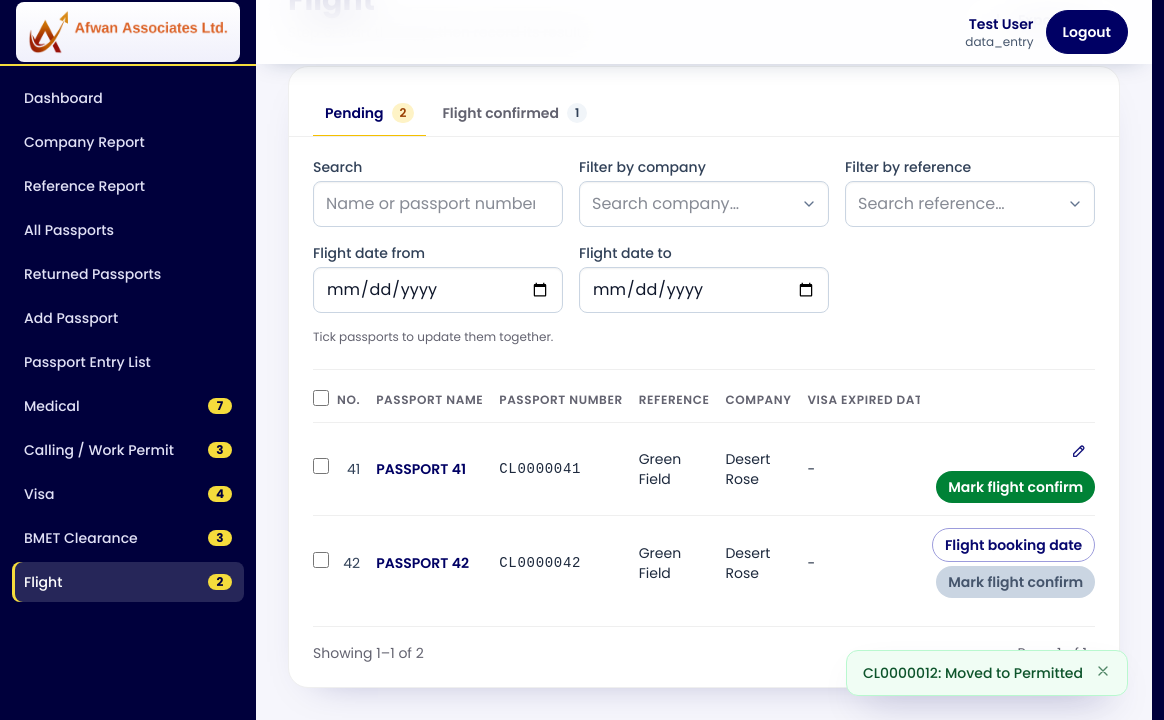
Test case: Flight counts › stay equal after a booking and Mark flight confirm
(page scrolled)
Step 1. Click the button "Flight booking date" → (1013, 545), box x1=932 y1=528 x2=1095 y2=562
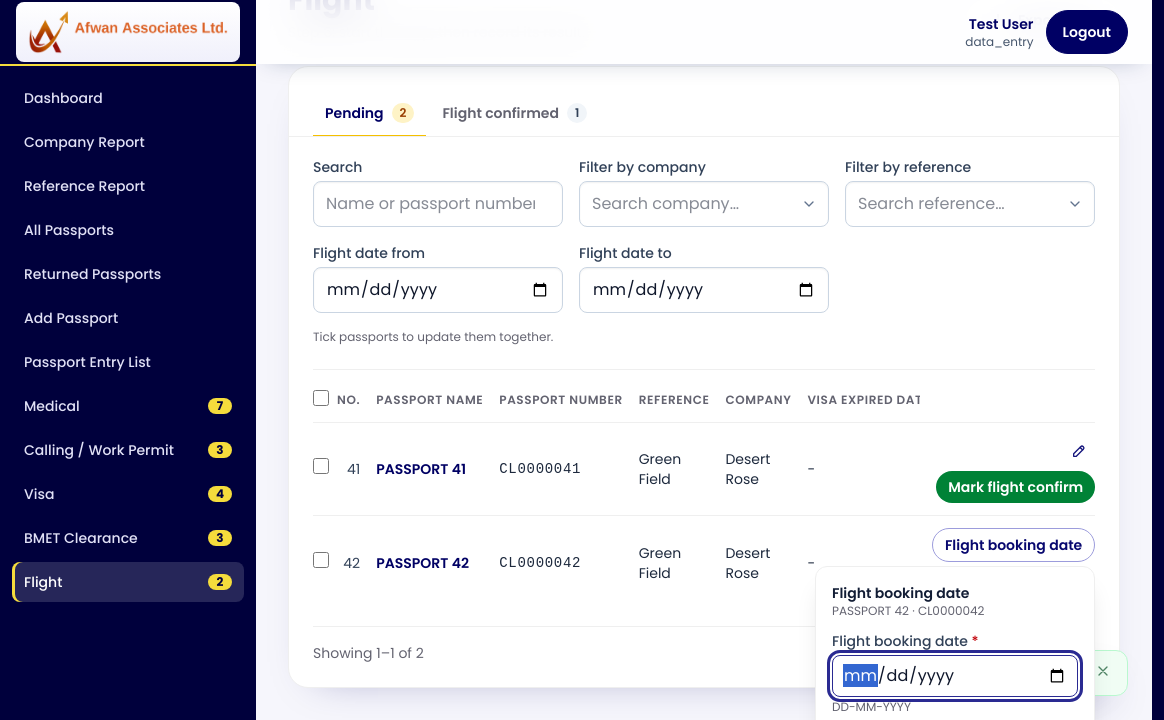
Step 2. Type "2026-12-03" into the date field labelled "Flight booking date *" → (955, 676), box x1=832 y1=655 x2=1078 y2=697
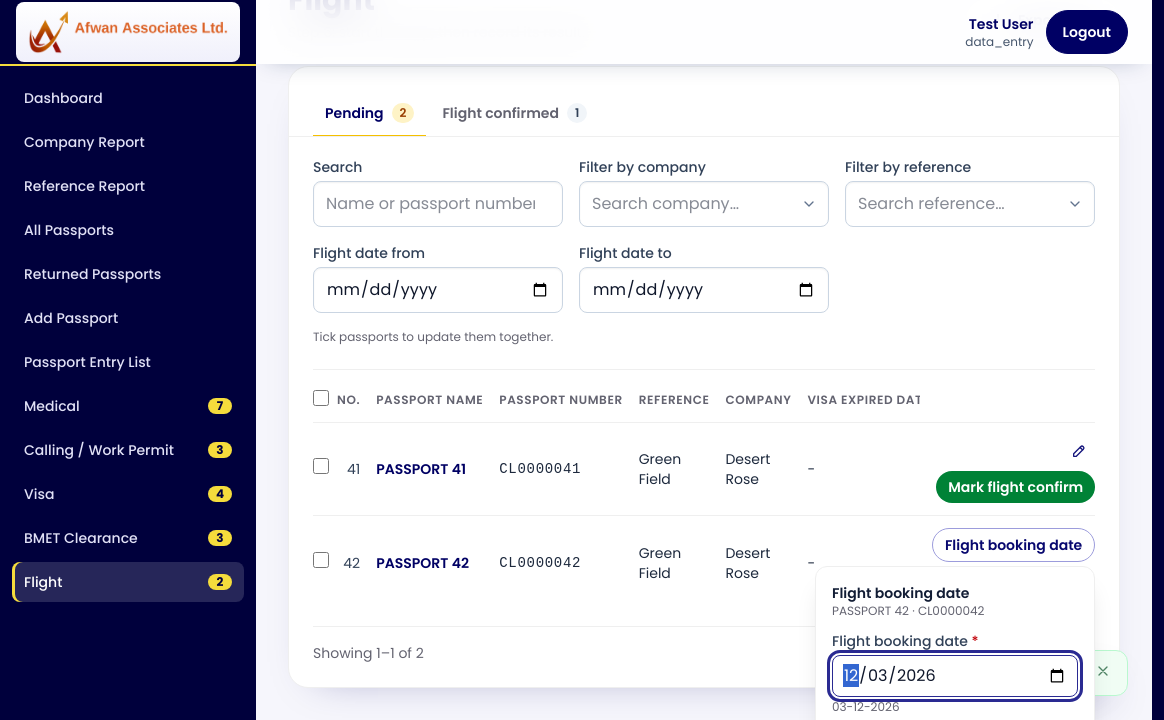
Step 3. Submit the form
(page scrolled)
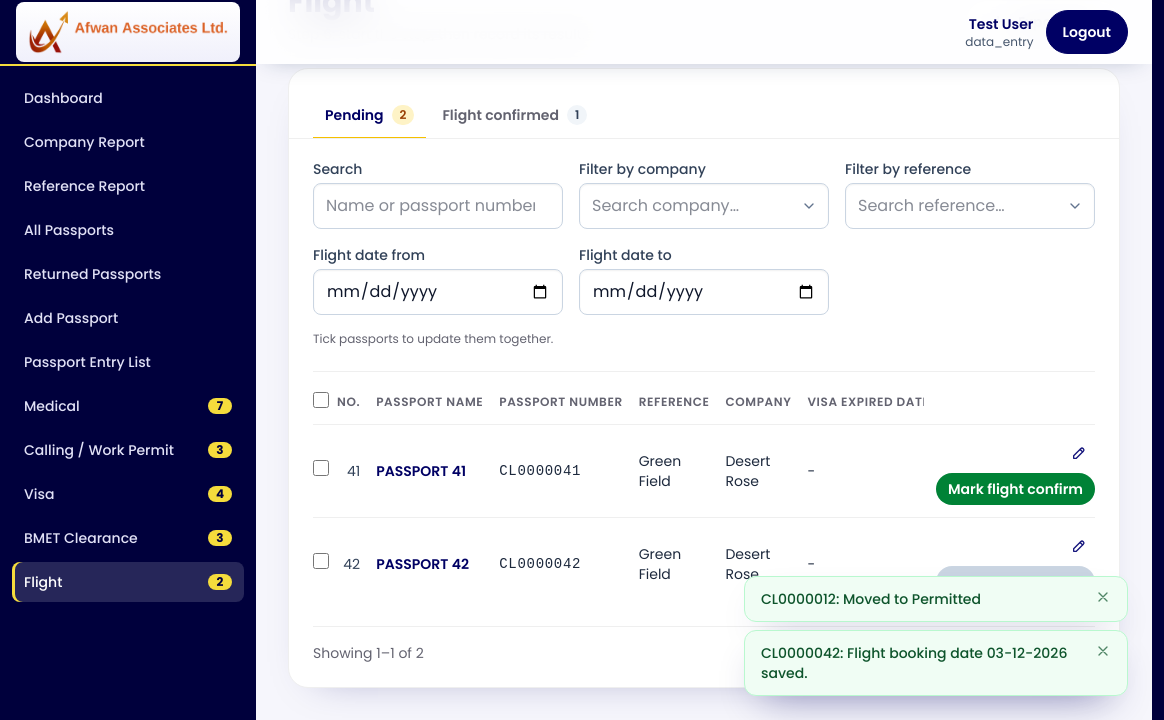
Step 4. Click the button "Mark flight confirm" → (1016, 489), box x1=936 y1=473 x2=1095 y2=505
(page scrolled)
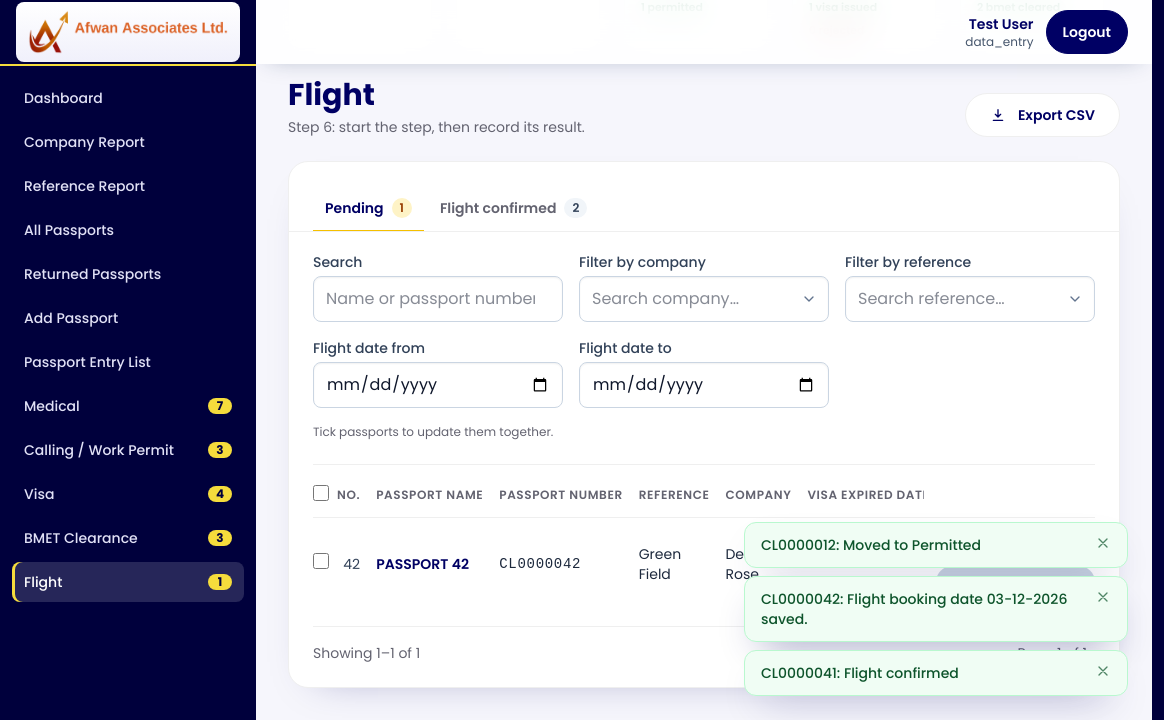
Check: the text "2" is shown, box x1=564 y1=198 x2=587 y2=218
